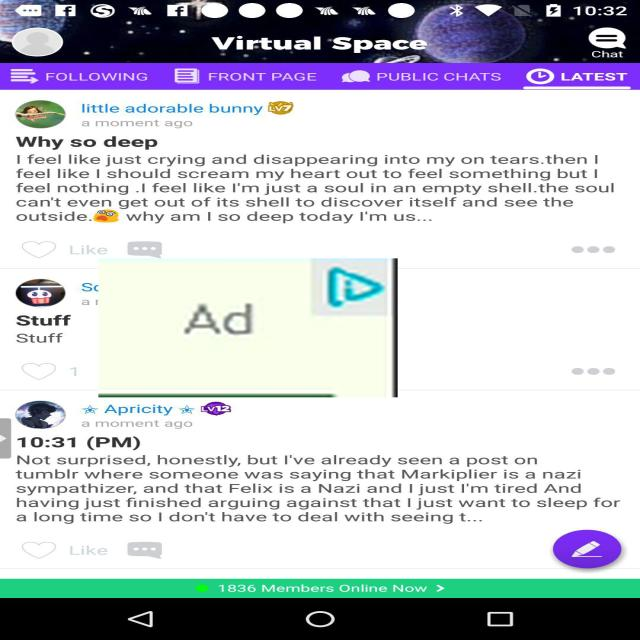sneaking: (98, 258, 398, 398)
